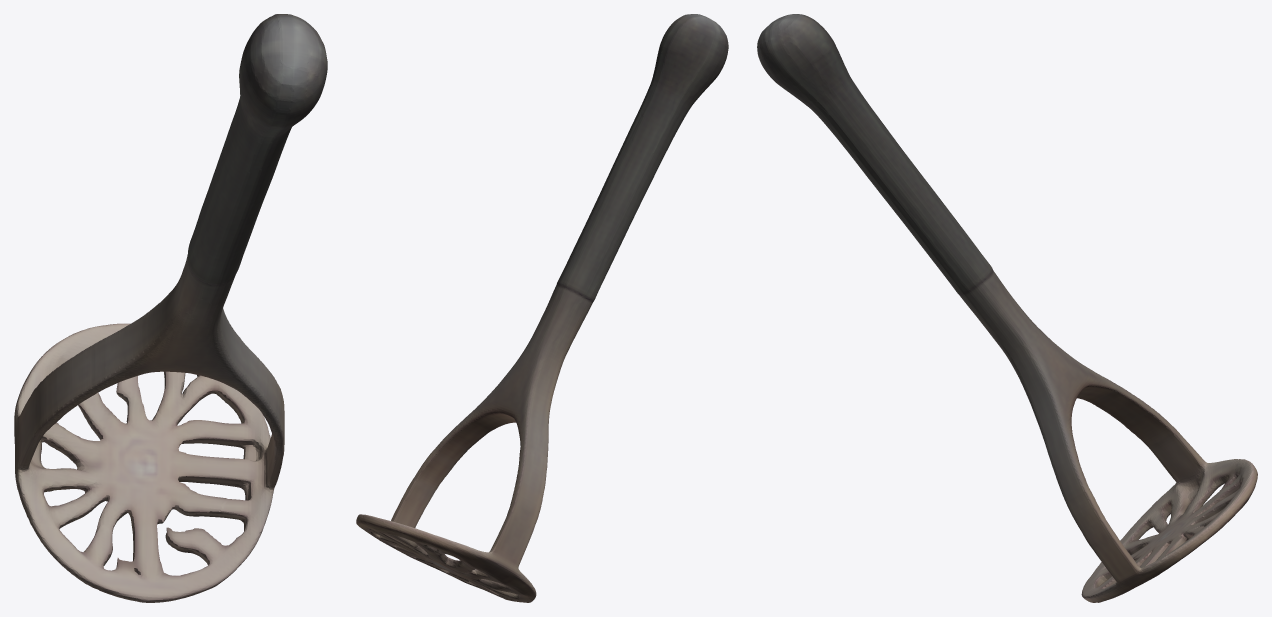
File: frame_0004_source_000004_object.glb
3 renders of one model, left to right at view 1: azimuth 30°, elevation 25°; view 2: azimuth 150°, elevation 25°; view 3: azimuth 270°, elevation 25°, orthographic. The views are drawn at different scales.
Parts seen in each view (by area): view 1: world; view 2: world; view 3: world.
Part boxes in pixels (x1,y1,x2,y2): world: [14, 14, 327, 602]; world: [356, 14, 728, 602]; world: [757, 14, 1257, 602].
Bounding box in the file's own units: 0.0868 × 0.2265 × 0.1897.
